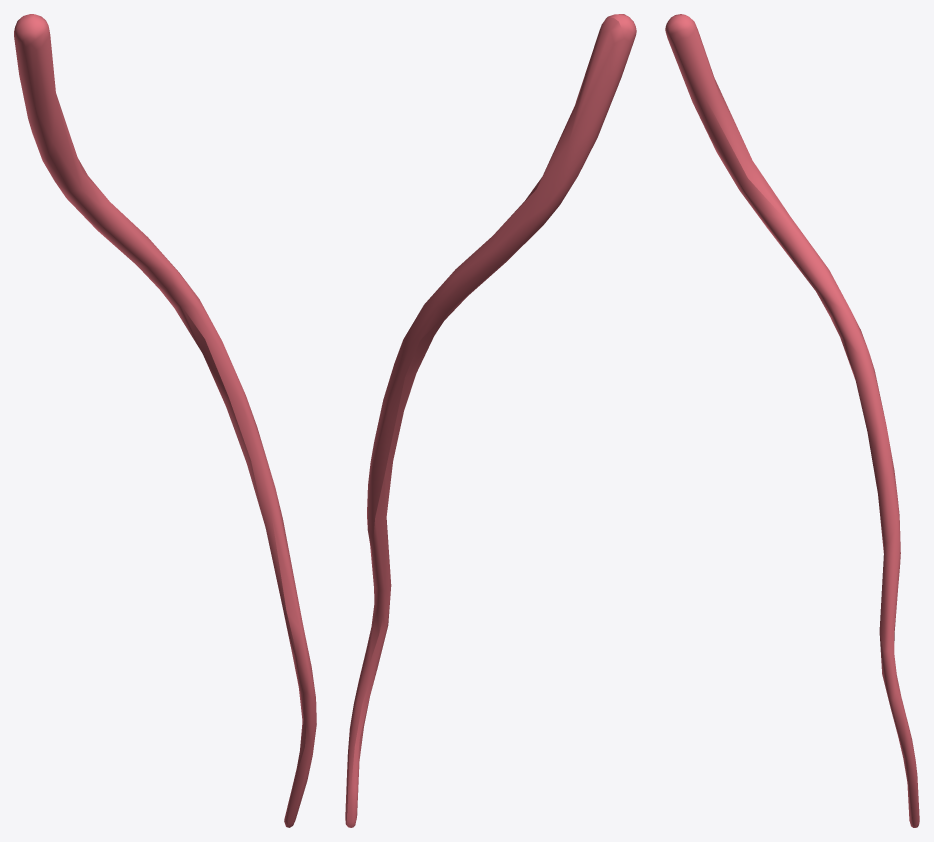
File: fma70492_fj3581.glb
The picture shows the model from 3 angles, left to right: view 1: azimuth 30°, elevation 25°; view 2: azimuth 150°, elevation 25°; view 3: azimuth 330°, elevation 25°; orthographic projection. The views are drawn at different scales.
Parts seen in each view (by area): view 1: FMA70492_FJ3581; view 2: FMA70492_FJ3581; view 3: FMA70492_FJ3581.
Part boxes in pixels (left/top/right/bottom): FMA70492_FJ3581: left=14, top=14, right=316, bottom=827; FMA70492_FJ3581: left=345, top=14, right=636, bottom=827; FMA70492_FJ3581: left=665, top=14, right=919, bottom=827.
Bounding box in the file's own units: 0.0135 × 0.039 × 0.00395.
